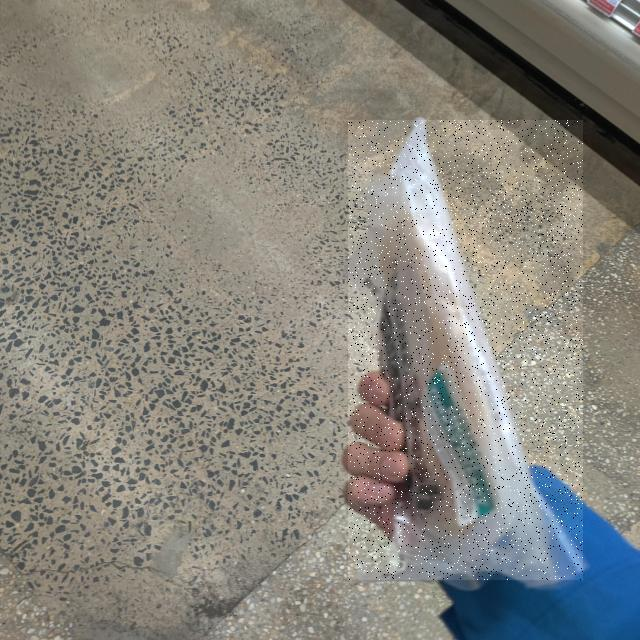Meat: (348, 120, 583, 580)
